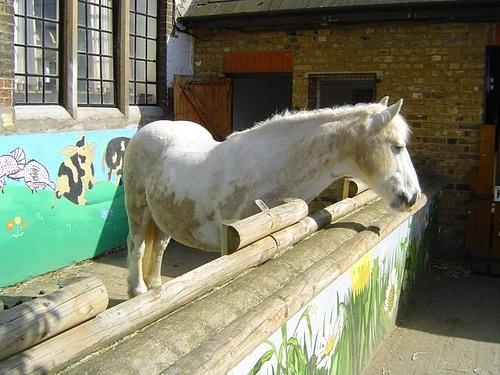horse: (125, 99, 442, 318)
